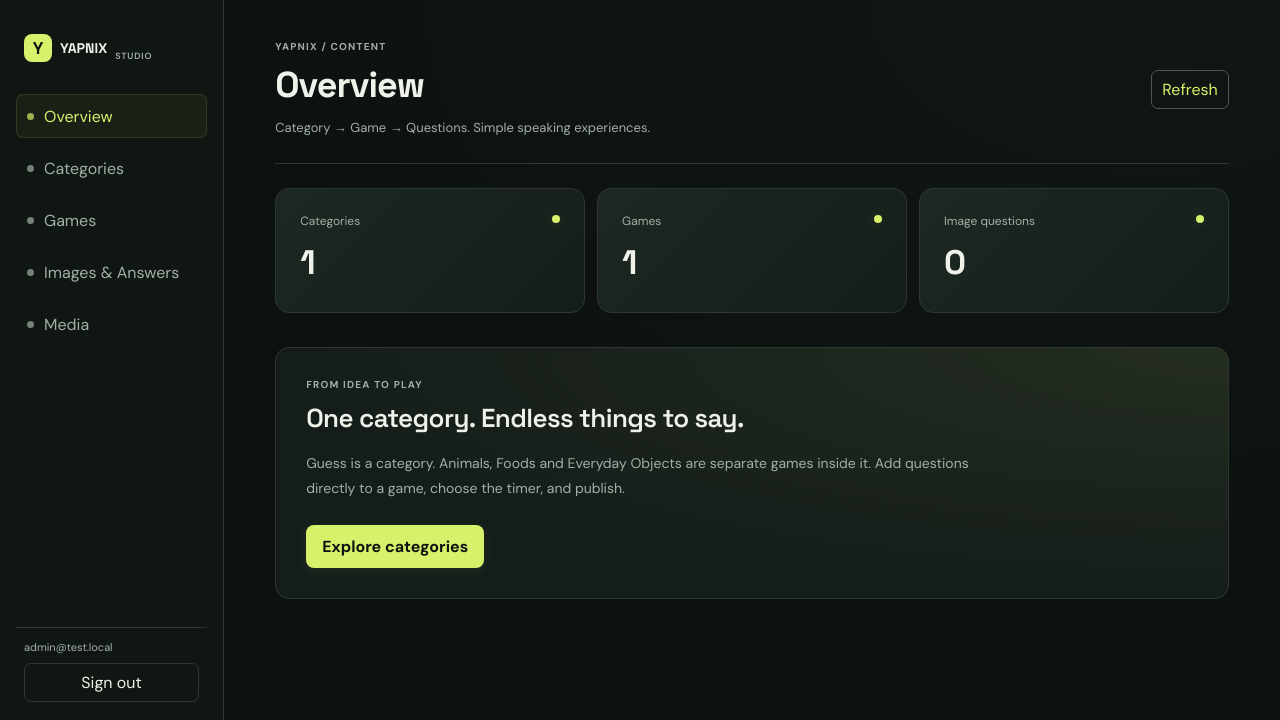
category and standalone game workflows › filters games by search and clears the empty state
Step 1. Click the button "Games" → (112, 220), box [16,198,207,242]
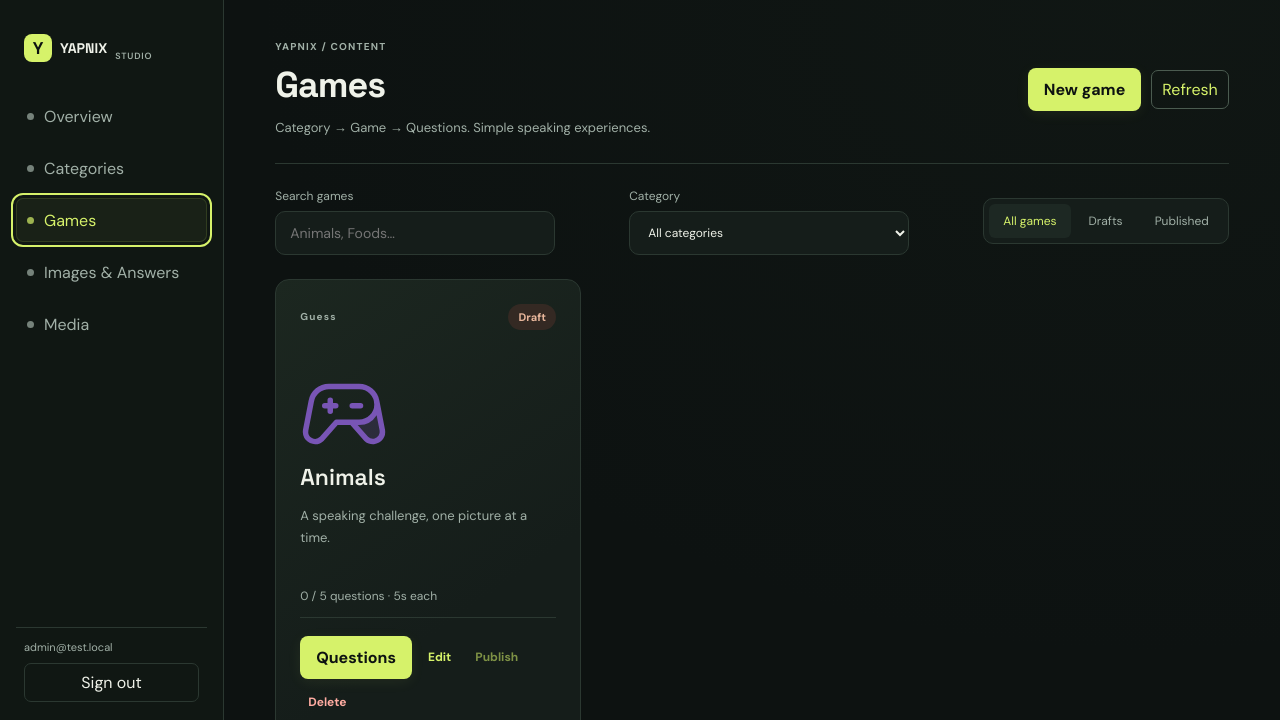
Expected: the heading "Animals" is shown, [300,462,386,492]
Step 2. Type "unknown" into the search field labelled "Search games" → (415, 233), box [275,211,555,255]
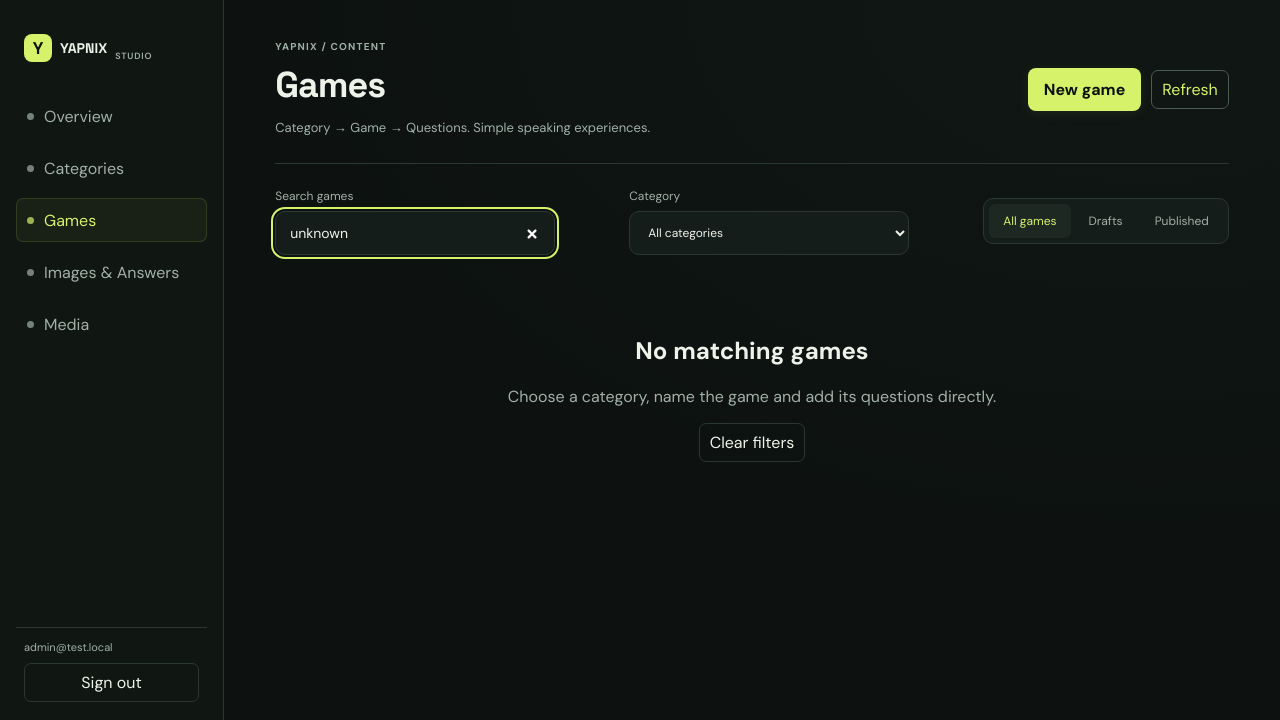
Expected: the heading "No matching games" is shown, [635,335,869,366]
Step 3. Click the button "Clear filters" → (752, 442), box [699,423,805,462]
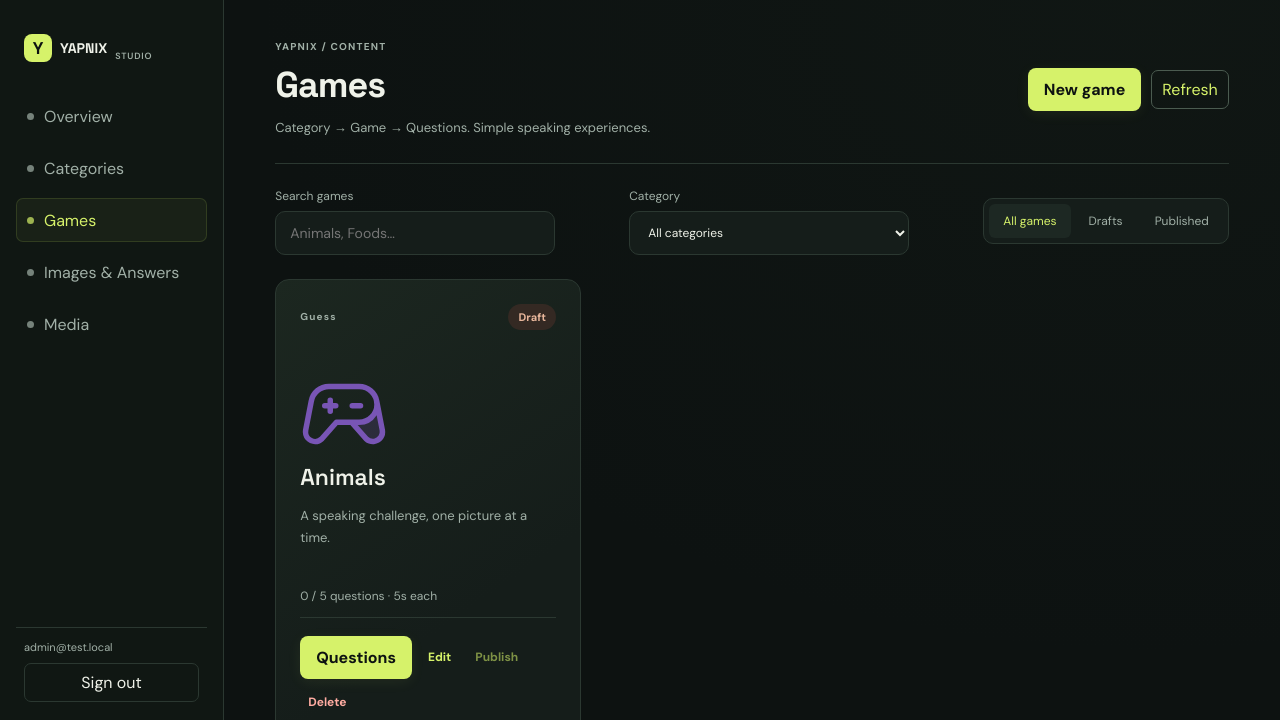
Expected: the heading "Animals" is shown, [300,462,386,492]
